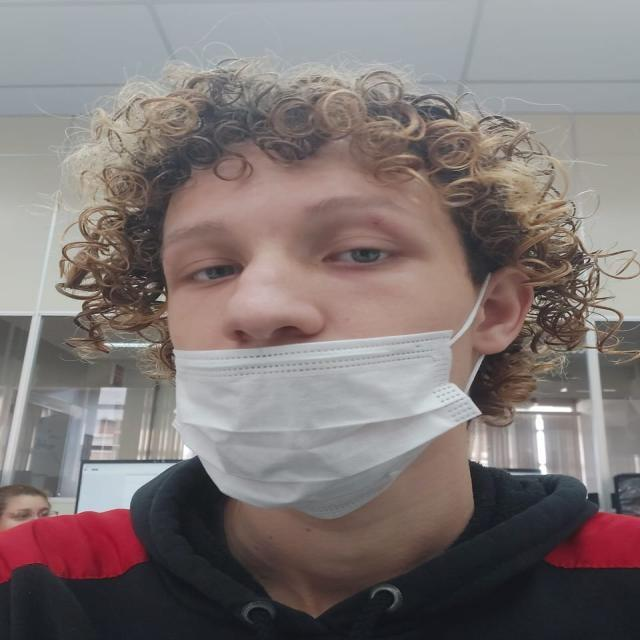hairnet: (163, 298, 504, 488)
